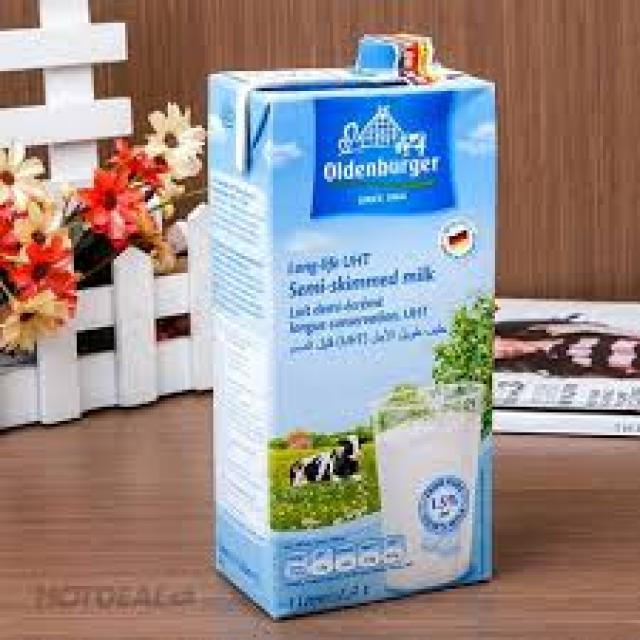non_white_jug: (188, 22, 503, 628)
